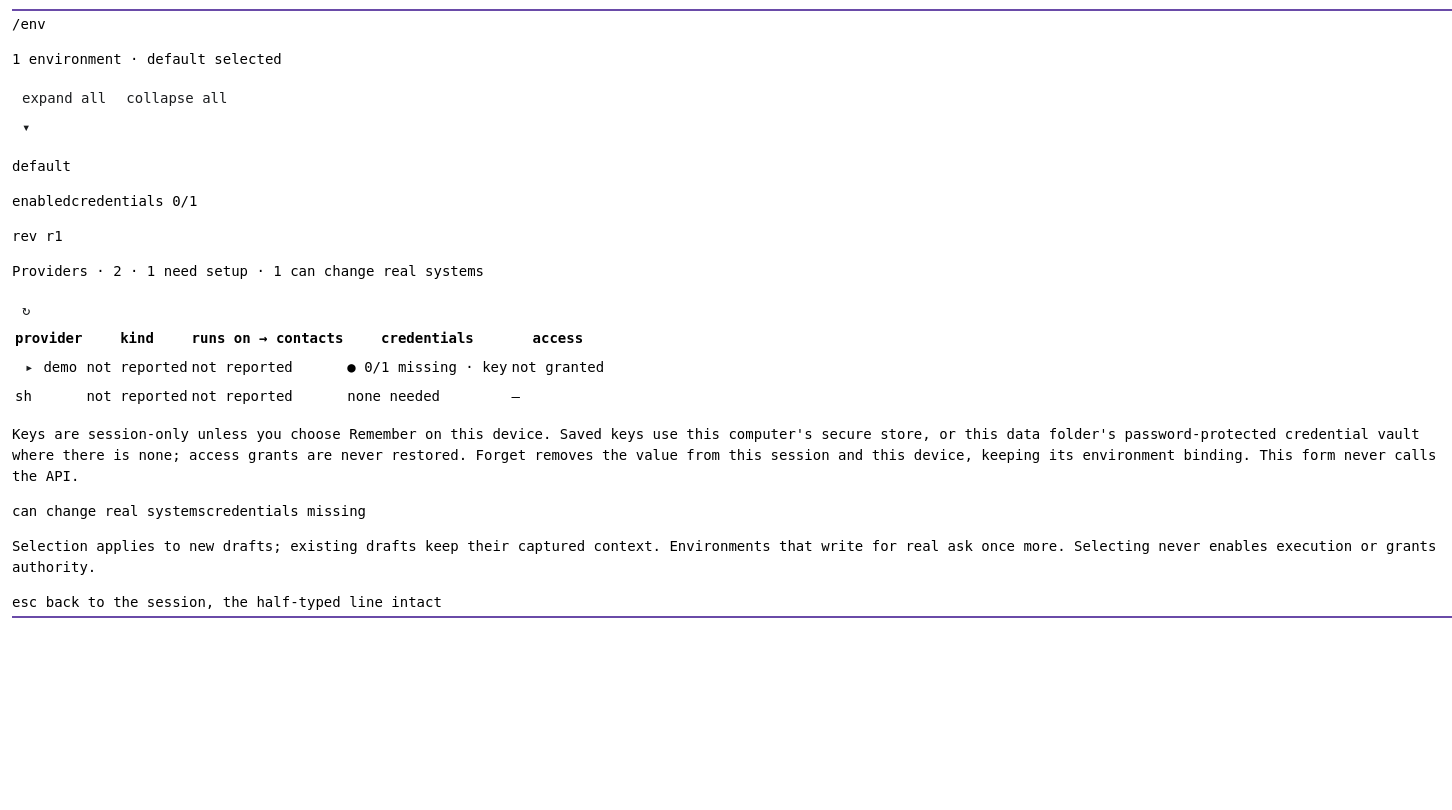
should_create_the_vault_in_the_credential_form_before_remembering_a_value
Click the button "▸" at x=29, y=368, box [15,353,43,382]
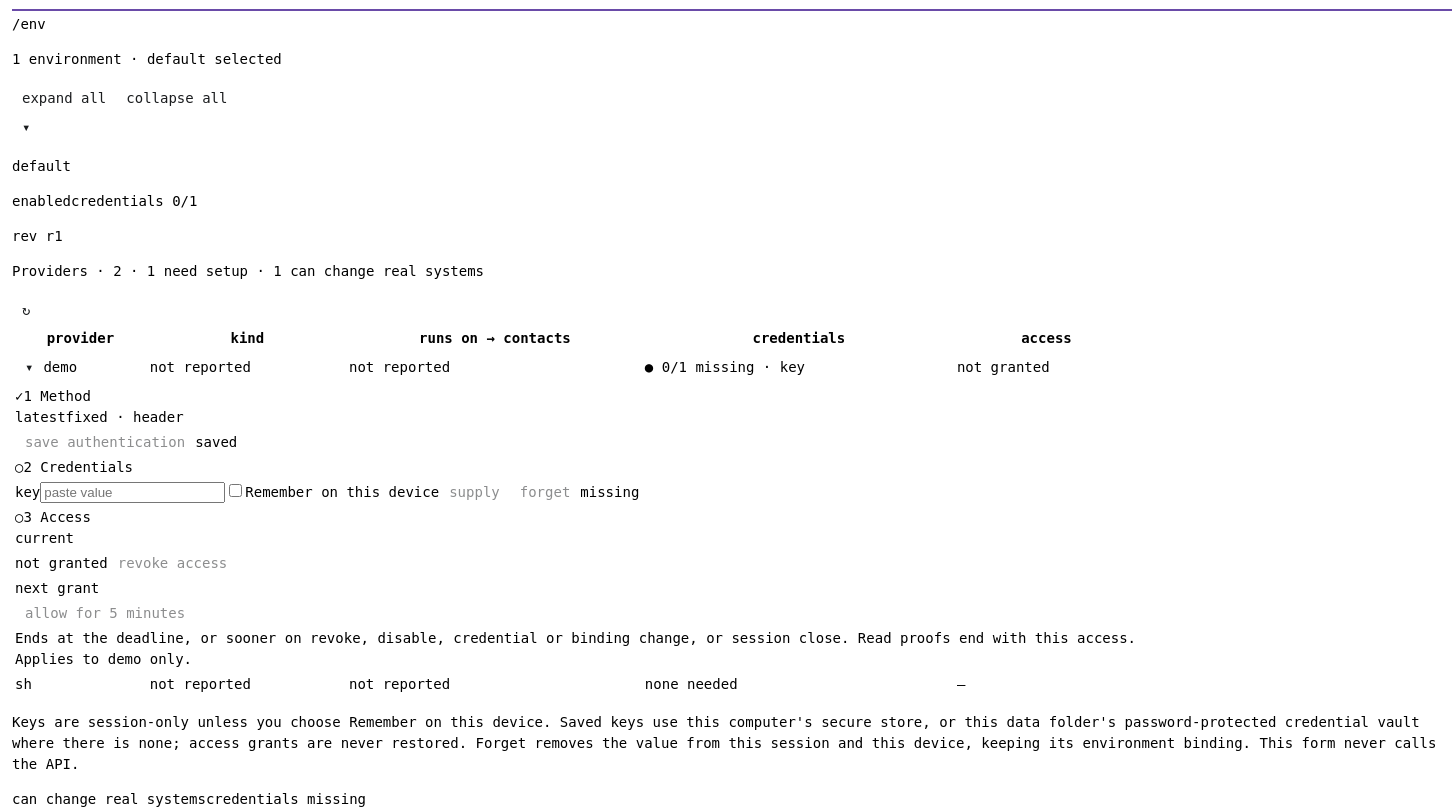
Click the checkbox labelled "Remember on this device" at x=236, y=490, box [229,484,242,497]
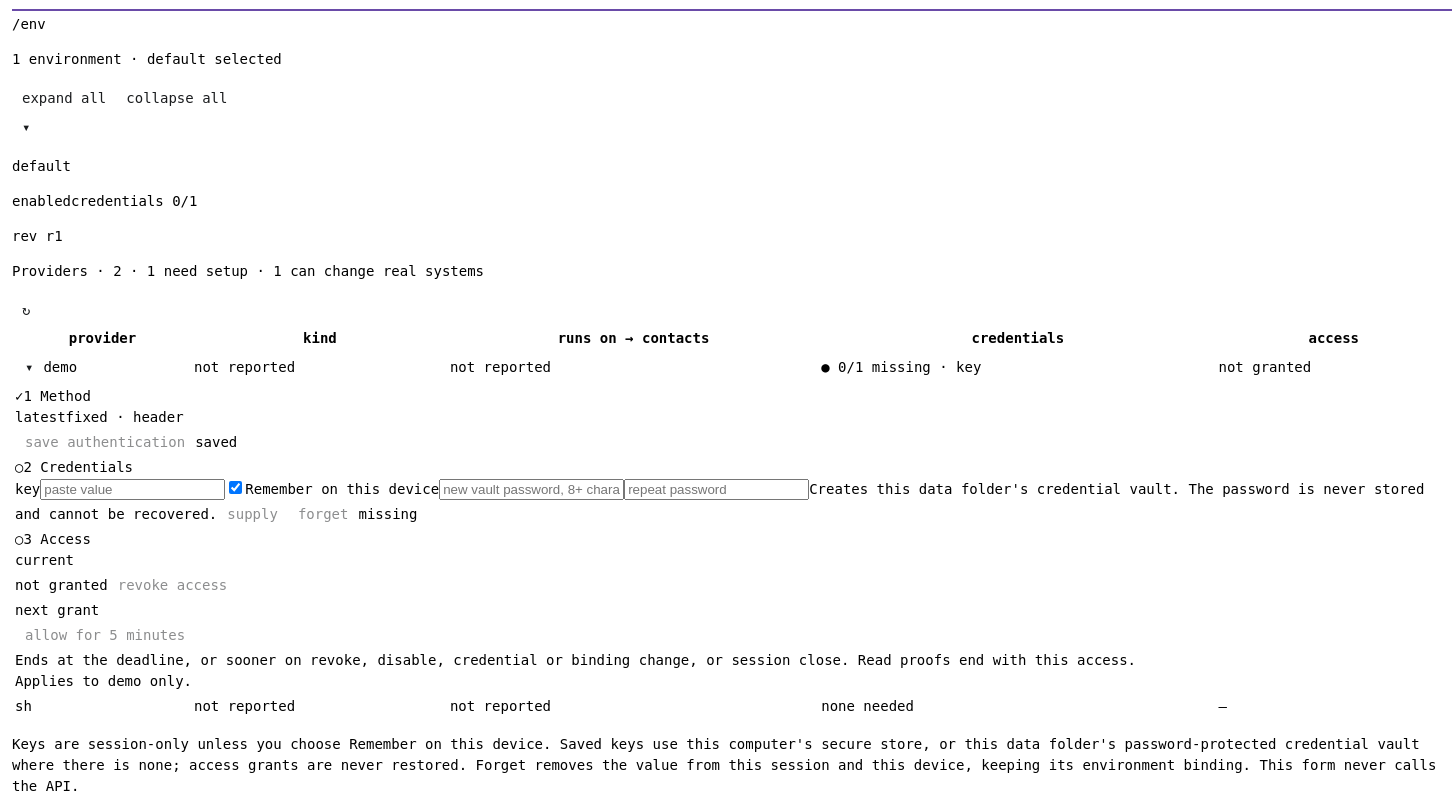
Type "synthetic-remembered" into the password field labelled "key" at x=133, y=490, box [40,479,225,500]
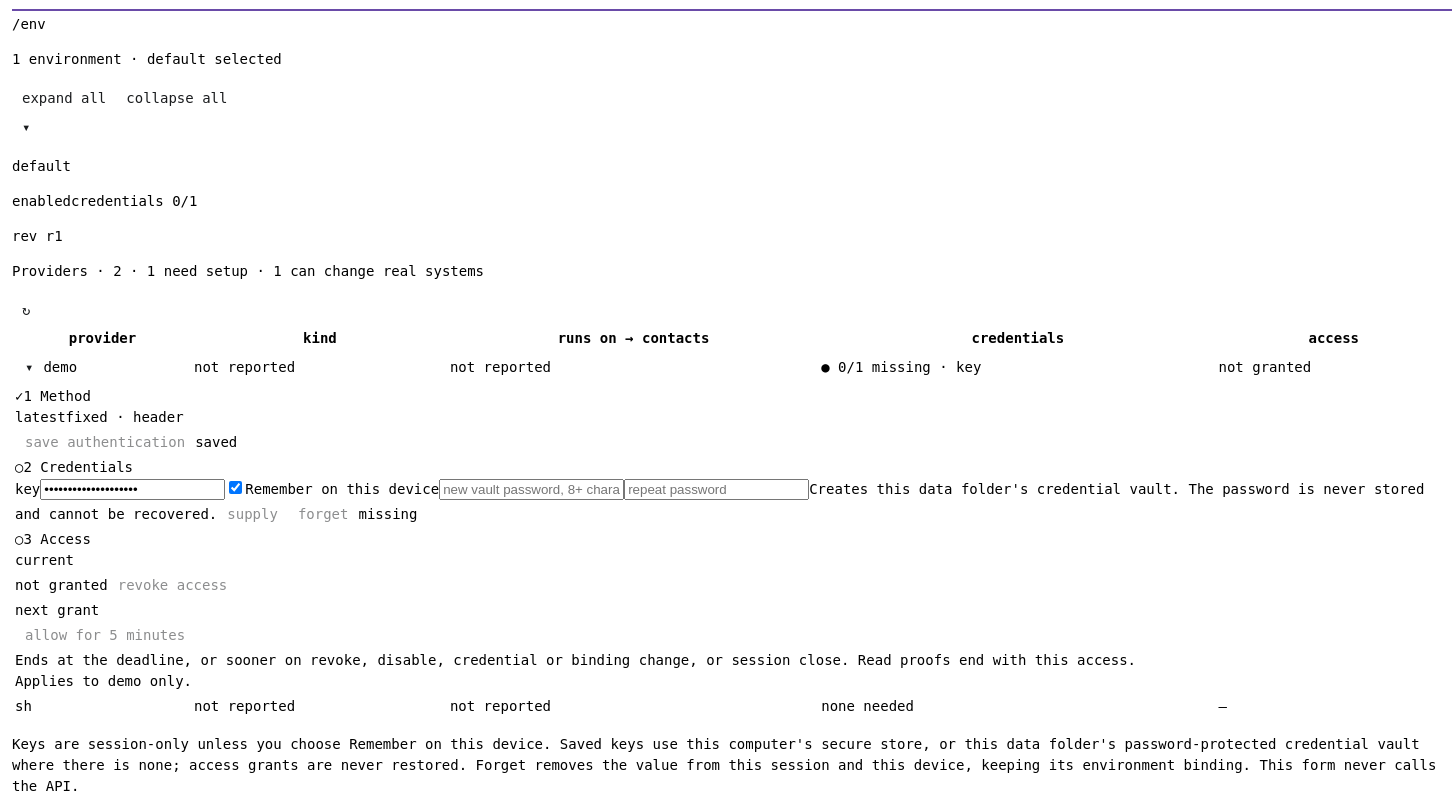
Type "synthetic password" into the password field with placeholder "new vault password, 8+ characters" at x=532, y=490, box [439,479,624,500]
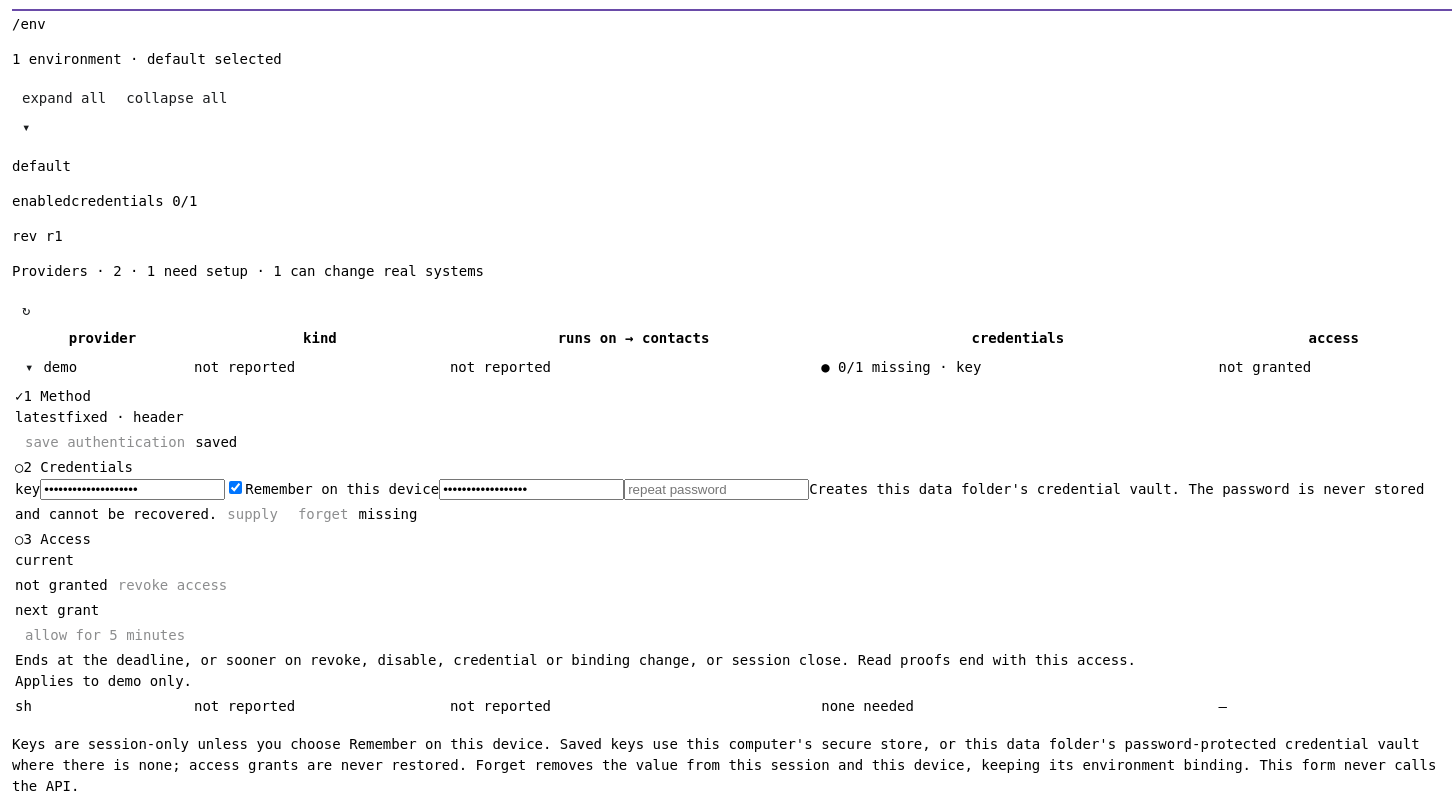
Type "synthetic password" into the password field with placeholder "repeat password" at x=717, y=490, box [624,479,809,500]
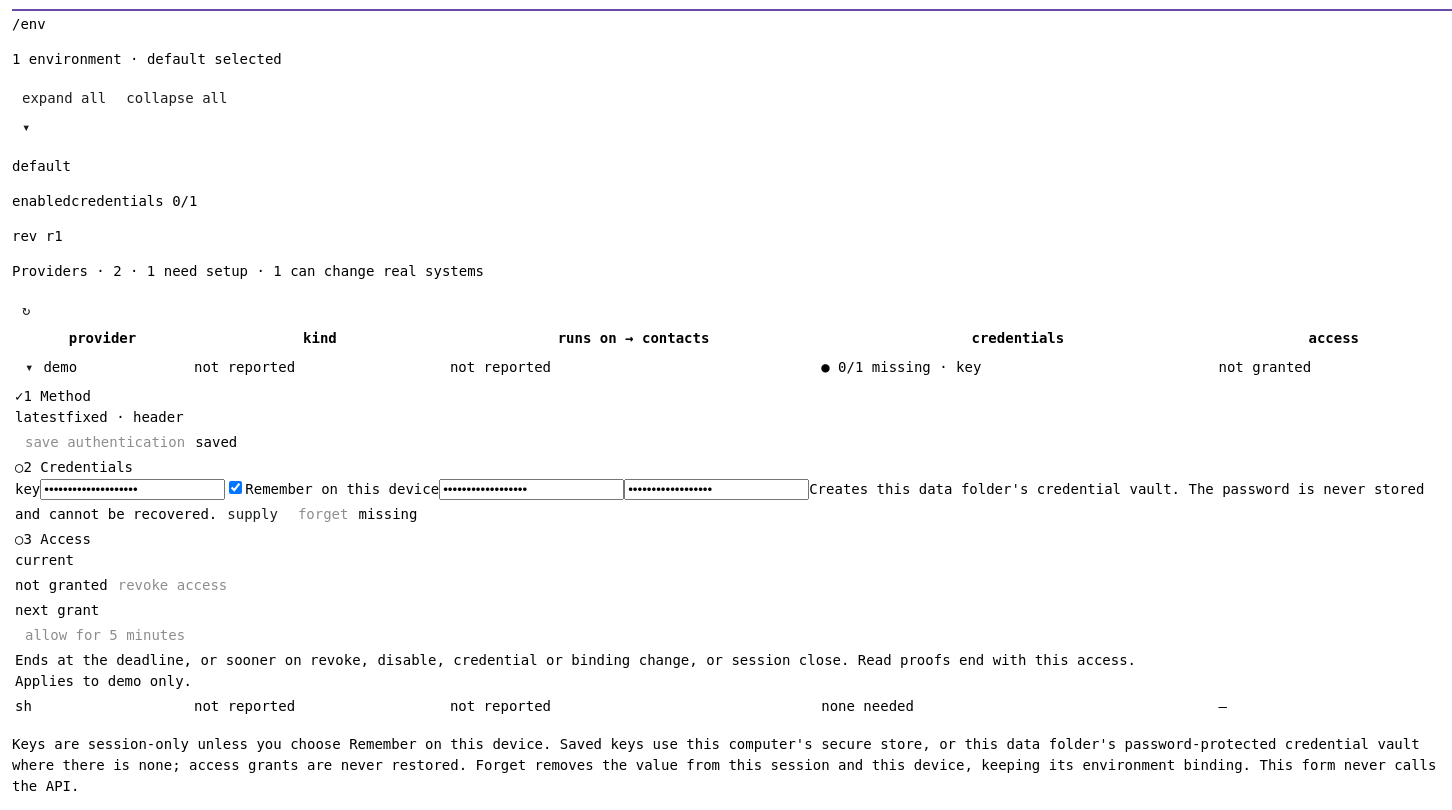
Submit the form, box [15,478,1449,529]
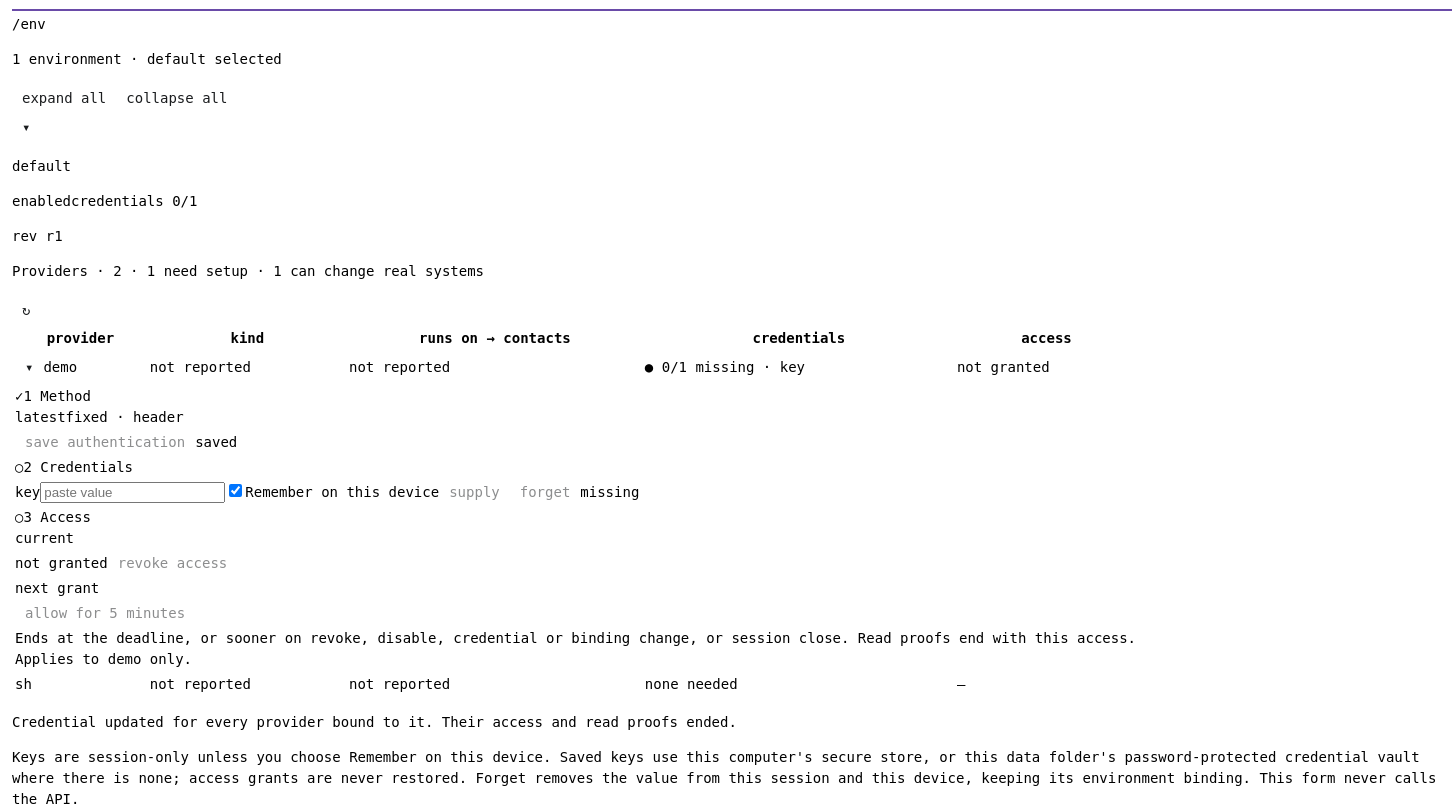
Expected: the button "supply" is disabled, [439,478,510,507]
